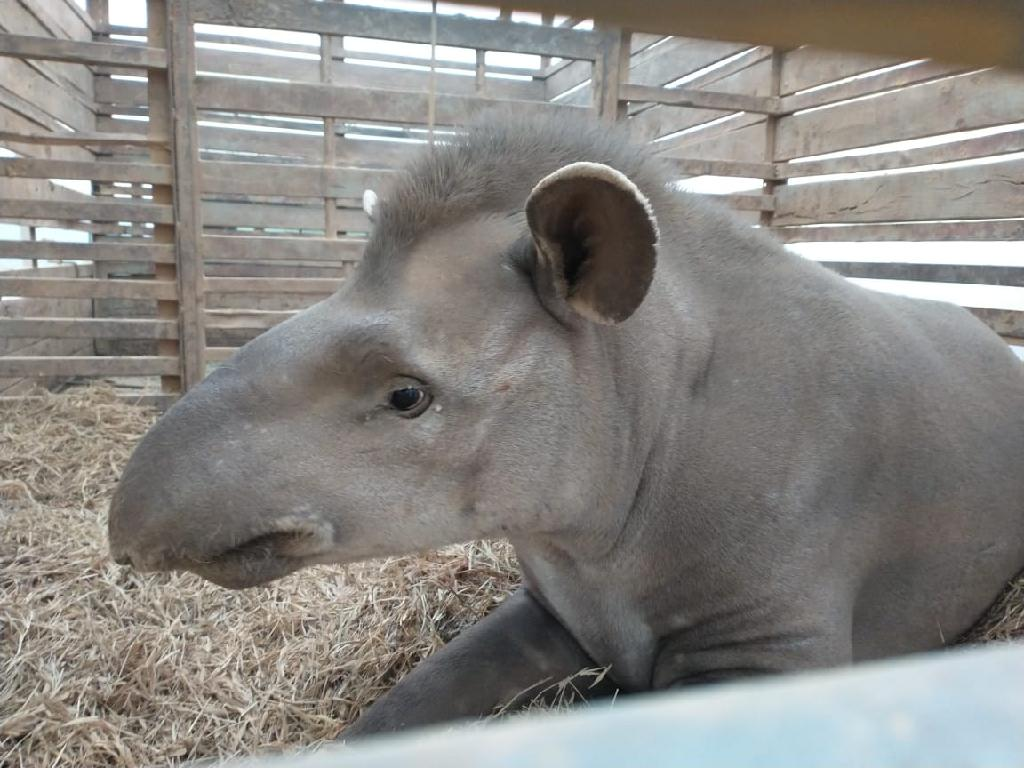Anta: (95, 103, 1014, 641)
